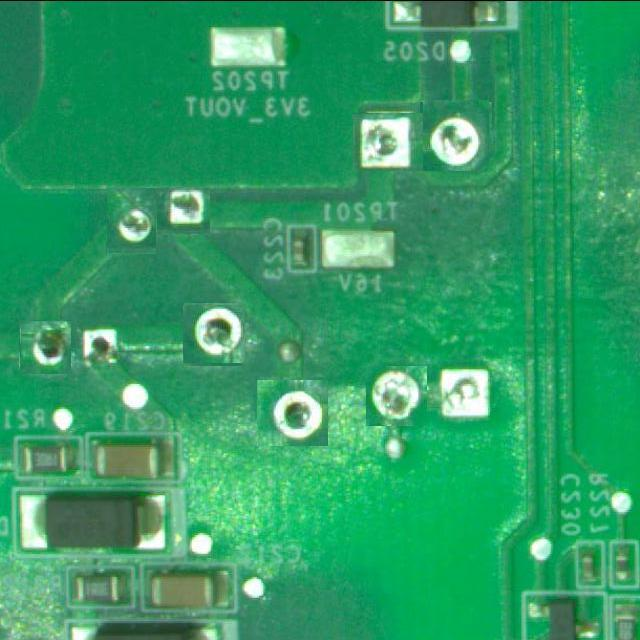lack_of_part: (433, 352, 514, 426), (422, 100, 490, 170), (258, 379, 326, 448), (358, 108, 425, 176), (183, 304, 244, 365), (366, 365, 427, 426), (106, 187, 156, 254), (74, 322, 134, 376), (19, 320, 72, 374), (156, 187, 210, 235)
